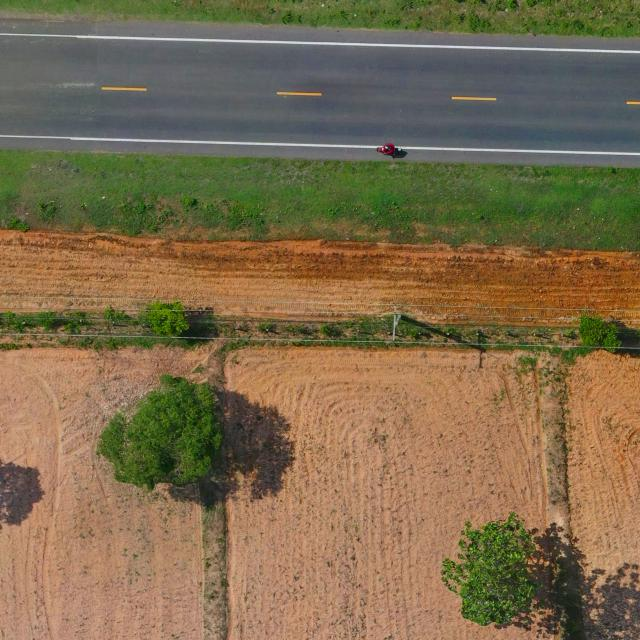Tree: (97, 371, 228, 494), (440, 508, 535, 630), (578, 314, 622, 355), (150, 298, 192, 338)
